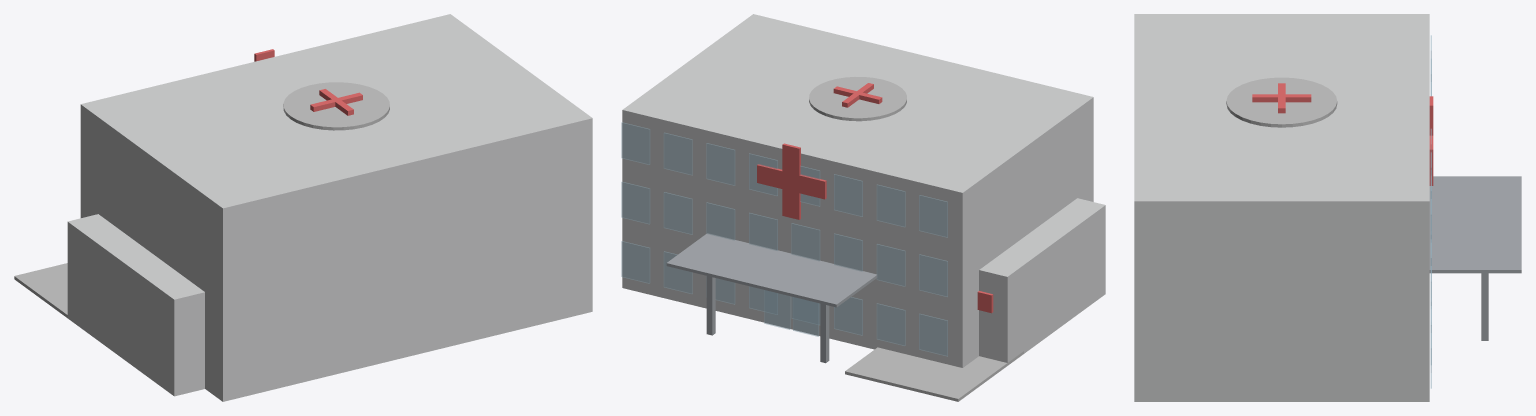
File: hospital.fbx
The picture shows the model from 3 angles, left to right: view 1: azimuth 30°, elevation 25°; view 2: azimuth 150°, elevation 25°; view 3: azimuth 270°, elevation 25°; orthographic projection. The views are drawn at different scales.
Visible parts, largest first — view 1: MainBody, EmergencyWing, Helipad, AmbParking; view 2: MainBody, EmergencyWing, Canopy, AmbParking, Helipad, Cross_H, Cross_V, Win_2_5, Win_2_6, Win_0_7, Win_2_1, Win_2_7 (+22 smaller); view 3: MainBody, Canopy, Helipad, CanopySupport_R, HelipadH_2.
Boxes of the visible parts, bbox=[...] form: MainBody: bbox=[80, 14, 592, 401]; EmergencyWing: bbox=[67, 214, 204, 396]; Helipad: bbox=[283, 82, 389, 130]; AmbParking: bbox=[14, 263, 82, 329]; MainBody: bbox=[622, 14, 1093, 367]; EmergencyWing: bbox=[979, 198, 1105, 362]; Canopy: bbox=[666, 233, 877, 307]; AmbParking: bbox=[845, 347, 1023, 401]; Helipad: bbox=[809, 77, 906, 121]; Cross_H: bbox=[757, 164, 826, 199]; Cross_V: bbox=[782, 143, 800, 219]; Win_2_5: bbox=[706, 143, 735, 185]; Win_2_6: bbox=[663, 132, 692, 175]; Win_0_7: bbox=[621, 241, 650, 283]; Win_2_1: bbox=[876, 184, 905, 227]; Win_2_7: bbox=[621, 122, 650, 164]; MainBody: bbox=[1134, 14, 1429, 401]; Canopy: bbox=[1429, 176, 1521, 273]; Helipad: bbox=[1226, 77, 1337, 127]; CanopySupport_R: bbox=[1481, 273, 1488, 340]; HelipadH_2: bbox=[1252, 94, 1311, 102].
Bounding box in the file's own units: 13 × 6.35 × 10.5.
